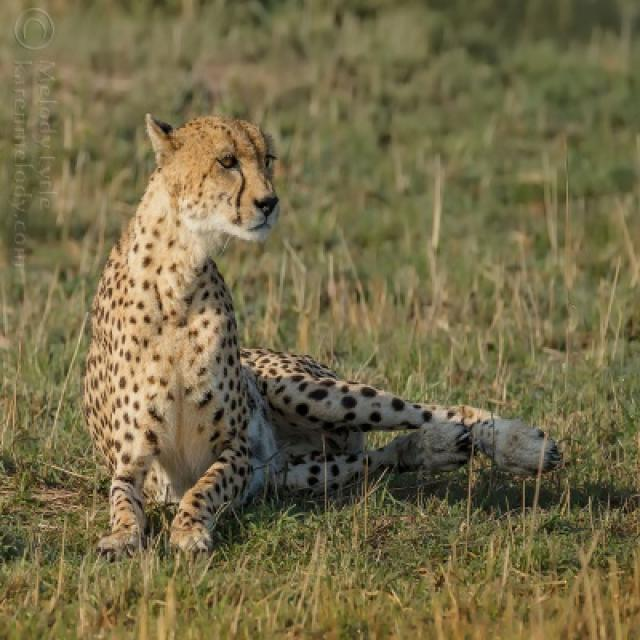Cheetah: (86, 115, 558, 552)
